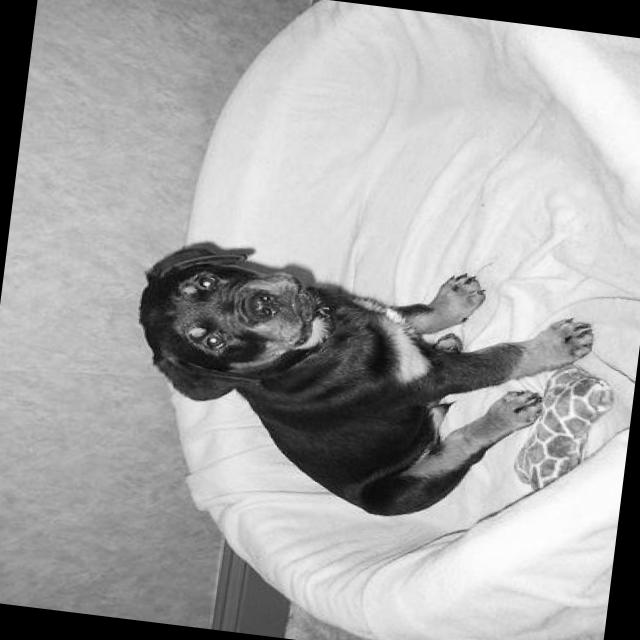sitting: (111, 225, 604, 540)
